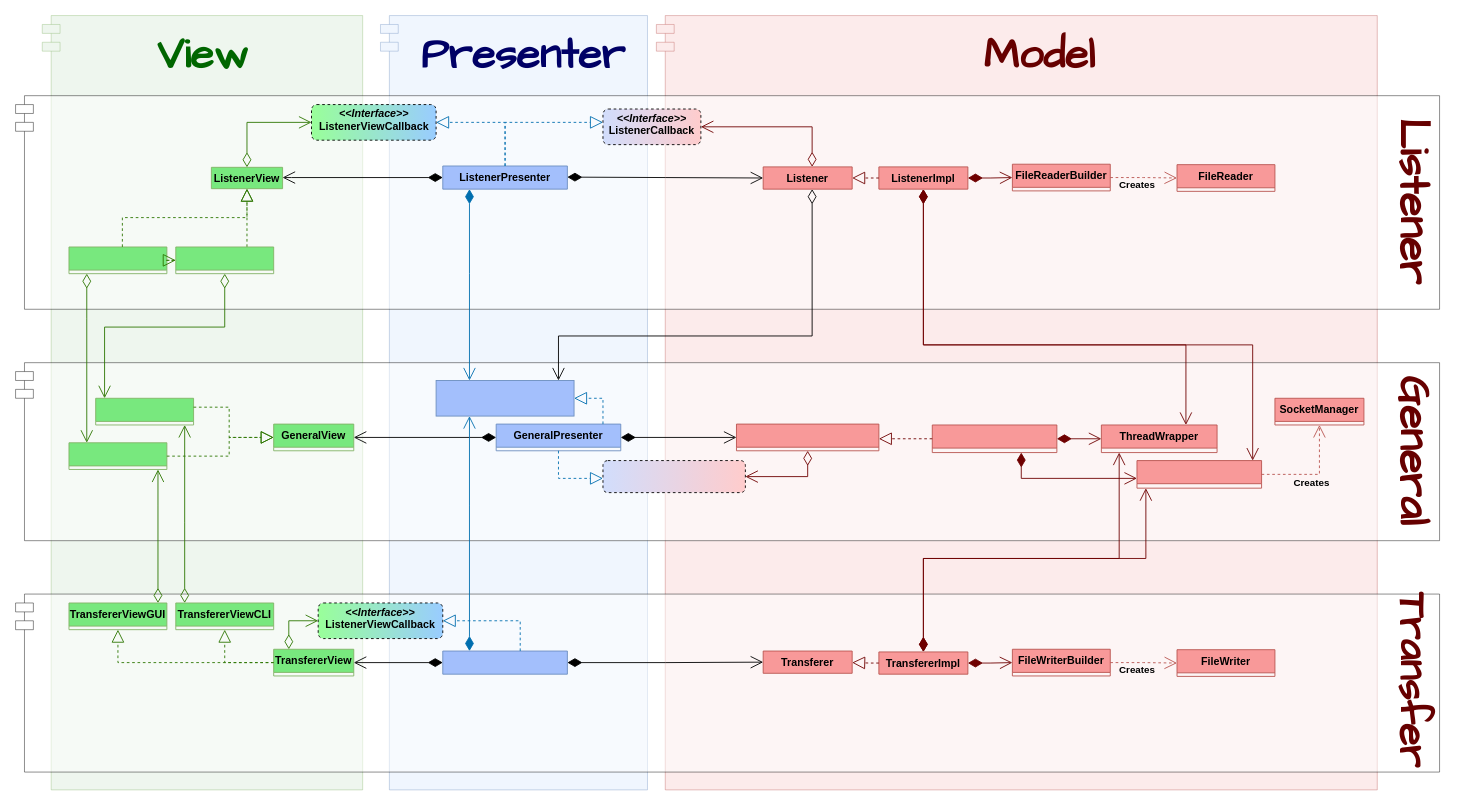
Image size: 1460x805. Some labels were removed from this diagram. Here are the shapes that lost their labels. From the top down, the box of each, then its label:
(68, 246, 167, 274): ListenerViewGUI
(175, 246, 274, 274): ListenerViewCLI
(95, 397, 194, 425): GeneralViewCLI
(435, 380, 574, 416): <<Interface>> NetworkStatusCallback
(68, 442, 167, 469): GeneralViewGUI
(736, 423, 879, 451): AddressGatherer
(931, 424, 1057, 453): AddressGathererImpl
(602, 460, 745, 493): <<Interface>> AddressGathererCallback
(1136, 460, 1262, 488): SocketManagerBuilder
(442, 650, 567, 674): TransfererPresenter
